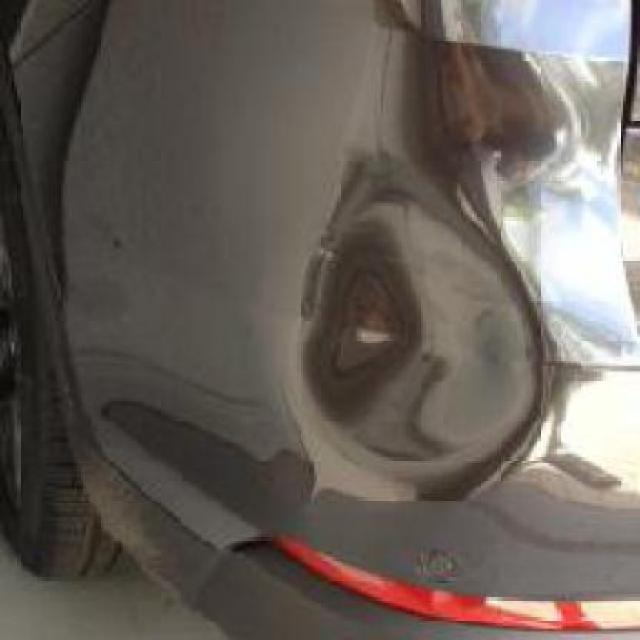dent-or-scratch: (278, 164, 542, 500)
